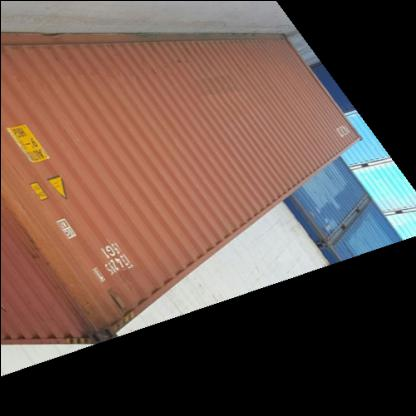Damage: (10, 198, 114, 336)
